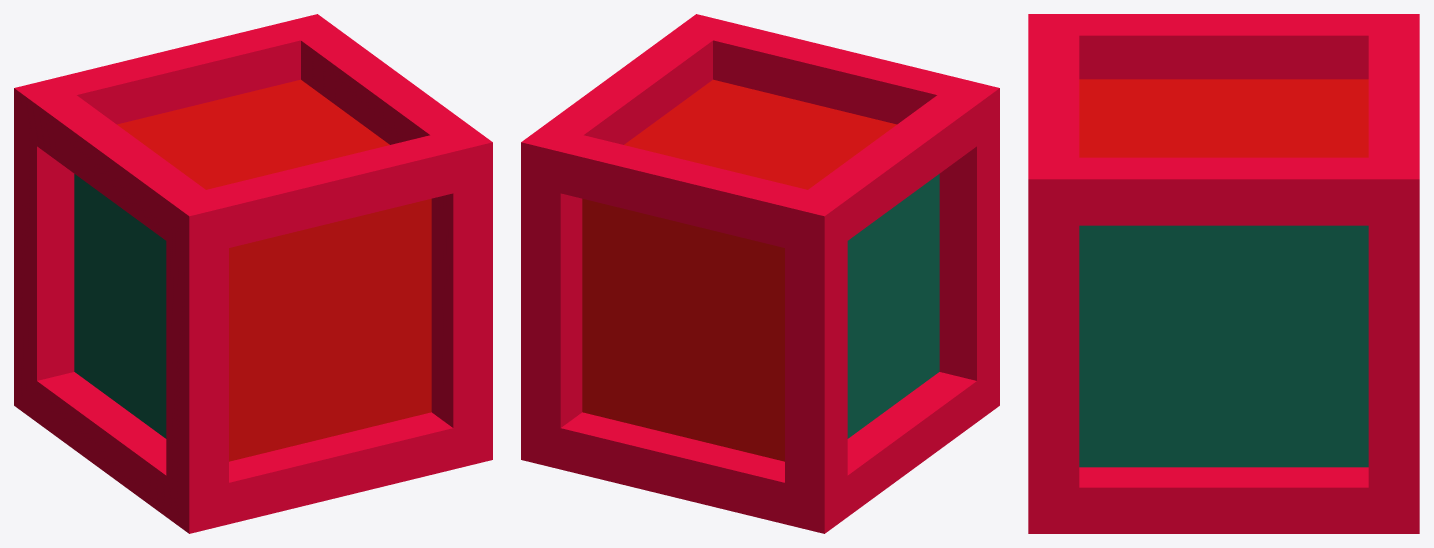
3 renders of one model, left to right at view 1: azimuth 30°, elevation 25°; view 2: azimuth 150°, elevation 25°; view 3: azimuth 270°, elevation 25°, orthographic. The views are drawn at different scales.
Parts seen in each view (by area): view 1: Cube; view 2: Cube; view 3: Cube.
Part boxes in pixels (x1=…): Cube: x1=14, y1=14, x2=492, y2=533; Cube: x1=521, y1=14, x2=999, y2=533; Cube: x1=1028, y1=14, x2=1419, y2=533.
Size of the model in its own units: 200 by 200 by 200.
